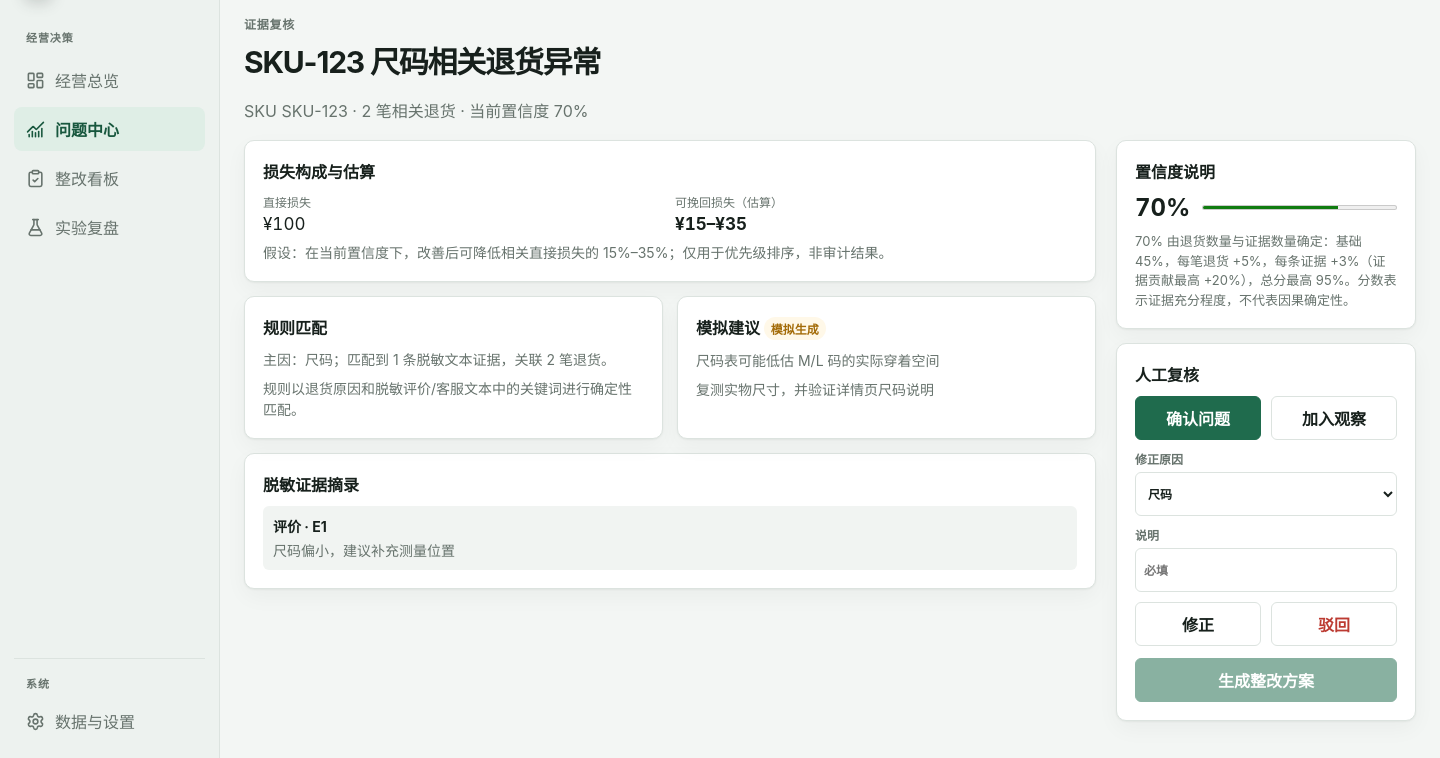
Test: clears a failed publication alert after rejecting and regenerating V2
Click the button "确认问题" at (1198, 418), box [1135,396,1261,440]
(page scrolled)
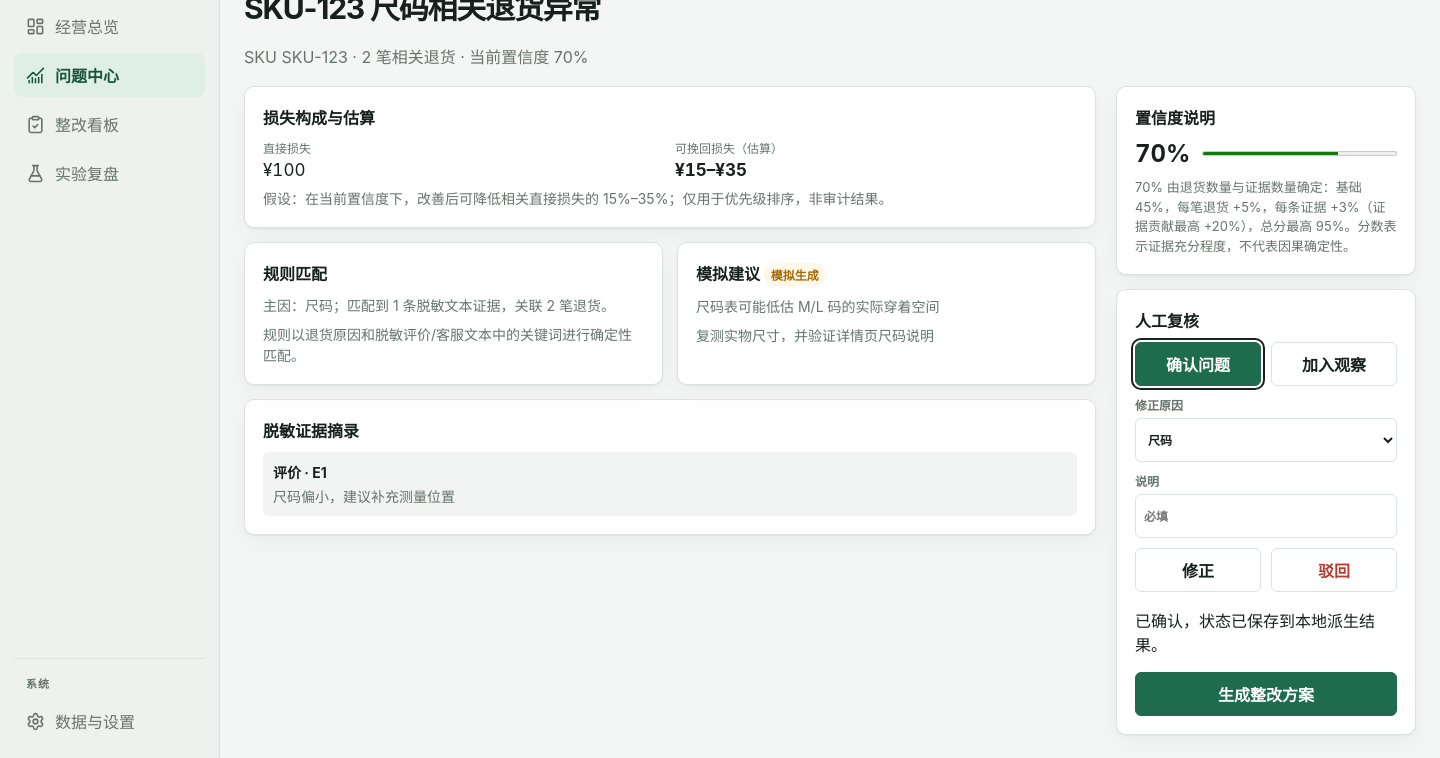
Click the button "生成整改方案" at (1266, 694), box [1135,672,1397,716]
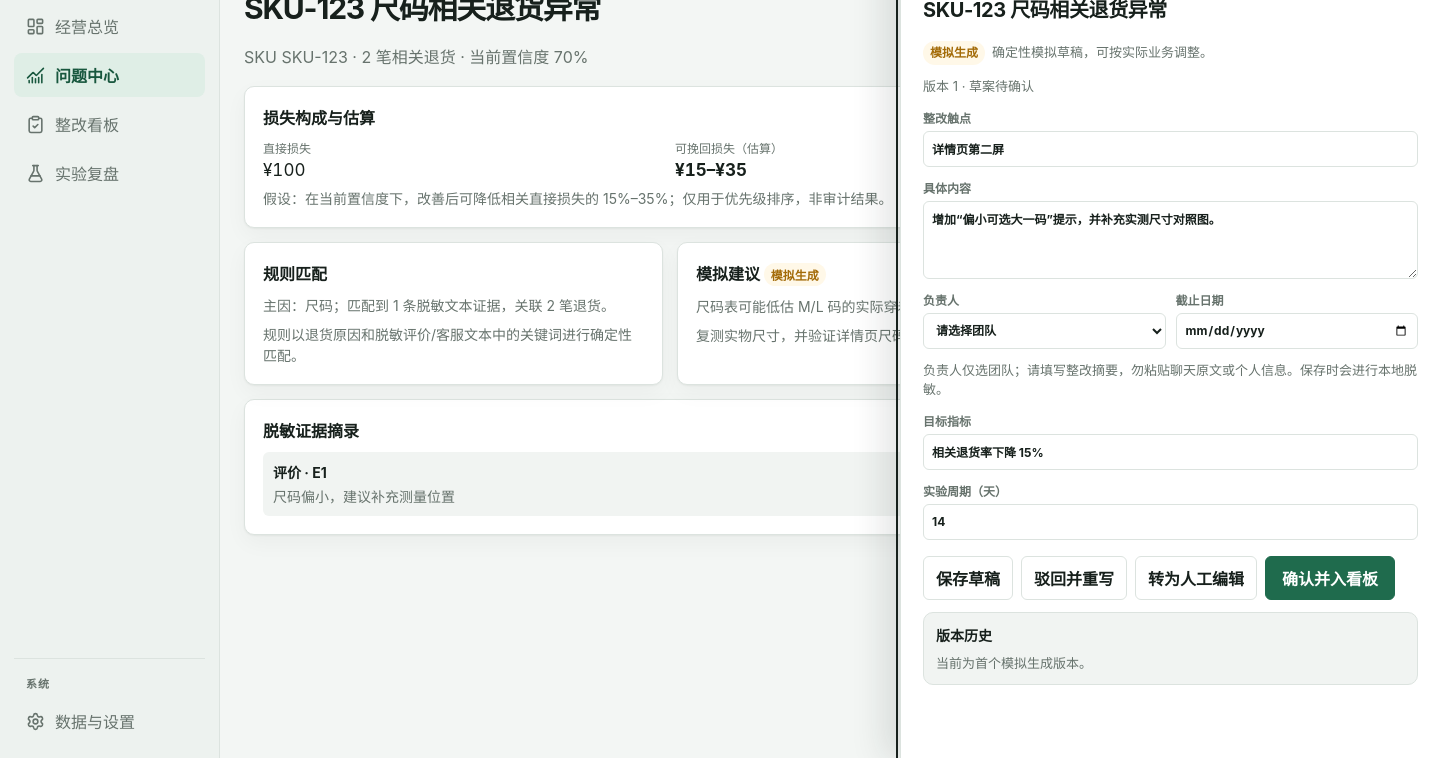
Now the dropdown labelled "负责人" is shown, box [923,312,1166,348]
Click the button "确认并入看板" at (1330, 578), box [1265,556,1395,600]
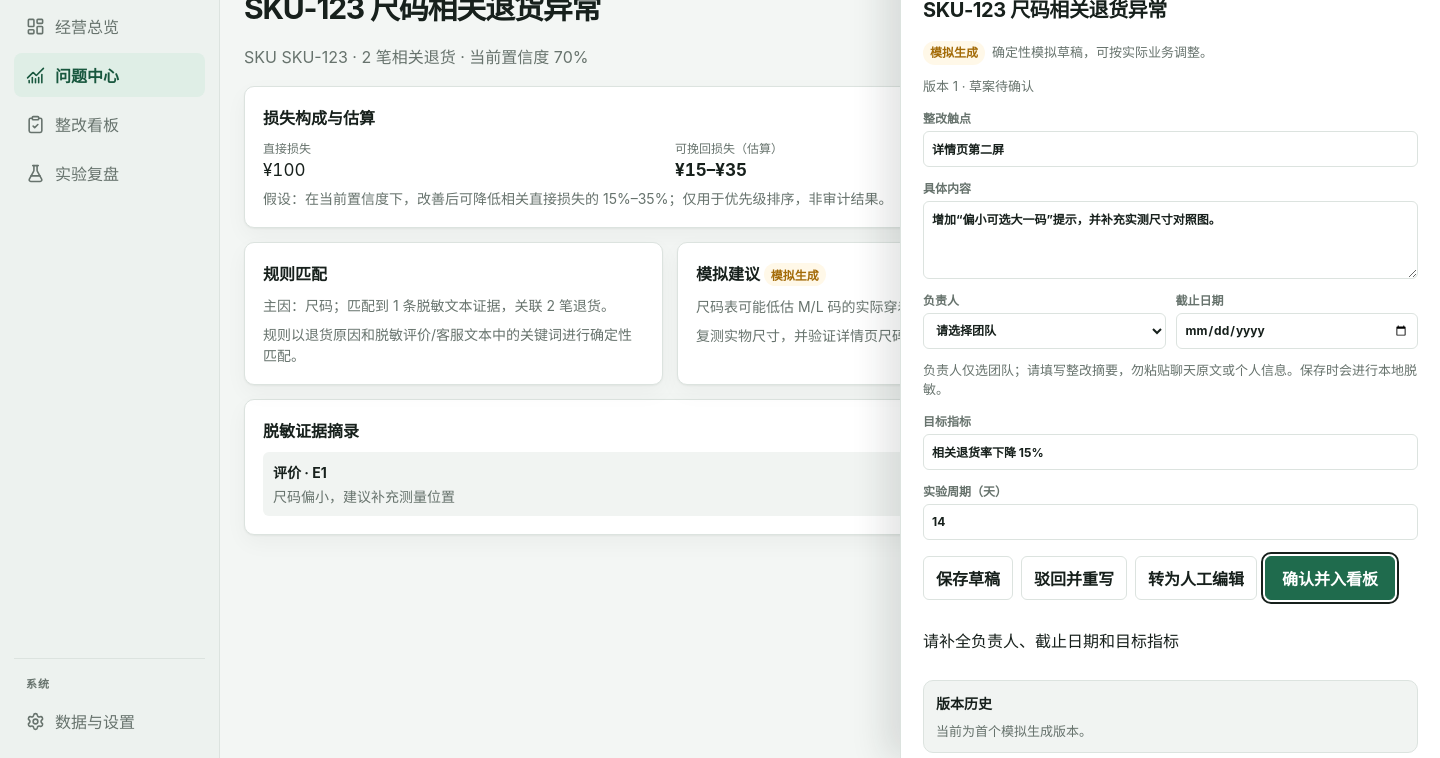
Now the message reads "请补全负责人、截止日期和目标指标", box [923,630,1179,650]
Click the button "驳回并重写" at (1074, 578), box [1021,556,1127,600]
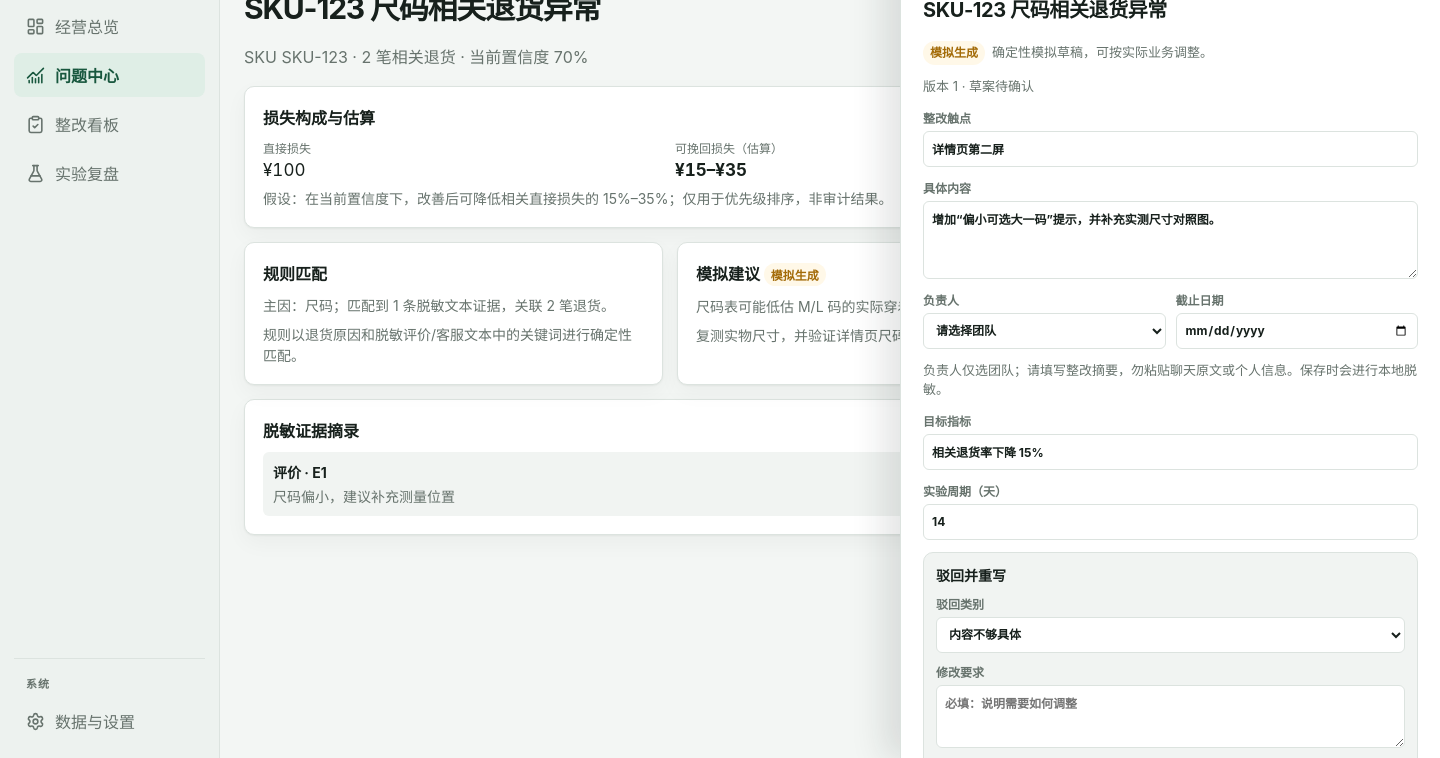
Type "补充详情页位置" into the text box labelled "修改要求" at (1170, 716), box [936,684,1405,748]
(page scrolled)
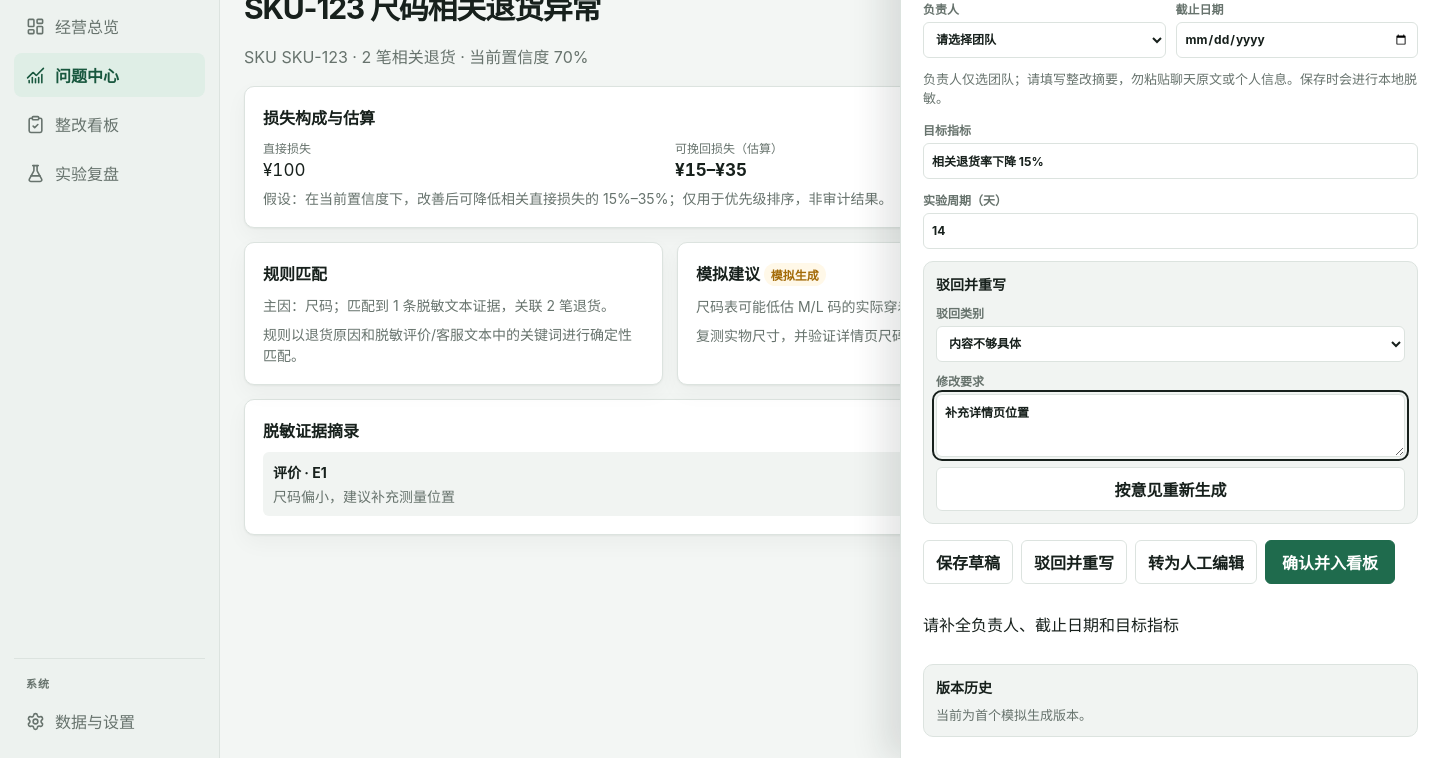
Click the button "按意见重新生成" at (1170, 488), box [936,466,1405,510]
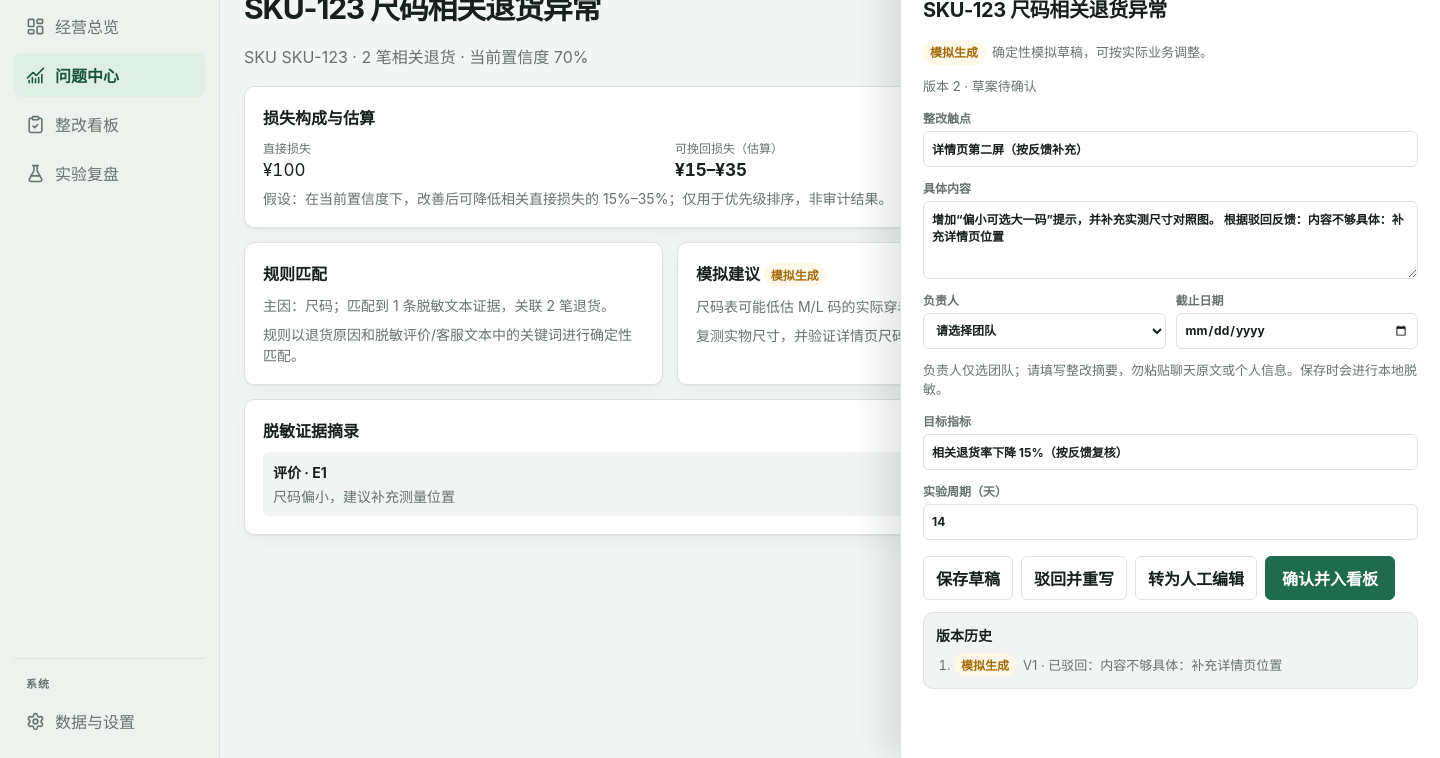
Now the text "版本 2" is shown, box [923,78,961,94]
Now the message "请补全负责人、截止日期和目标指标" is gone
Now the text "请补全负责人、截止日期和目标指标" is gone
